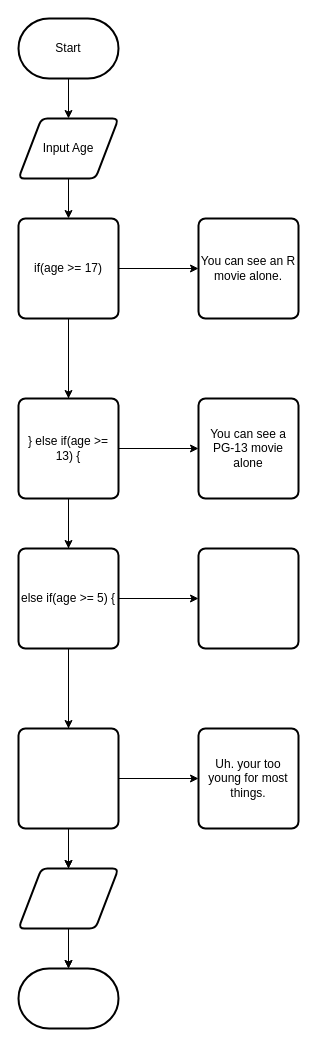
Image size: 316x1046. Some labels were removed from this diagram. The shapes that lost their labels are listed below. From the top down, each one's centre as x and y in pixels, then its label:
At point 248,598: "You can see a G or PG movie alone.".
At point 68,778: "} else {".
At point 68,898: "Show Answer".
At point 68,998: "Stop".
